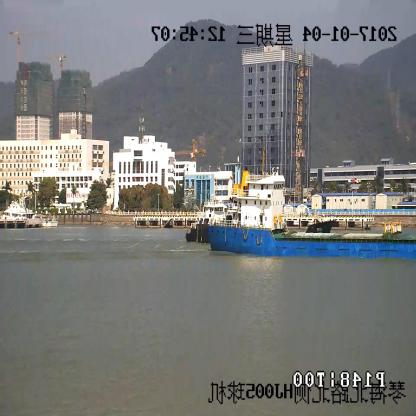Bulk Carrier: (207, 170, 415, 259)
